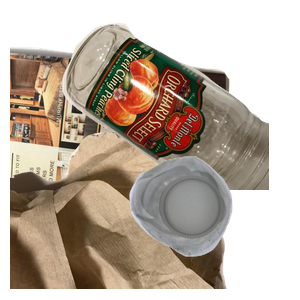glass: (60, 21, 300, 201)
paper: (10, 44, 232, 224)
plastic: (127, 154, 300, 300)
trash: (10, 120, 229, 300)
